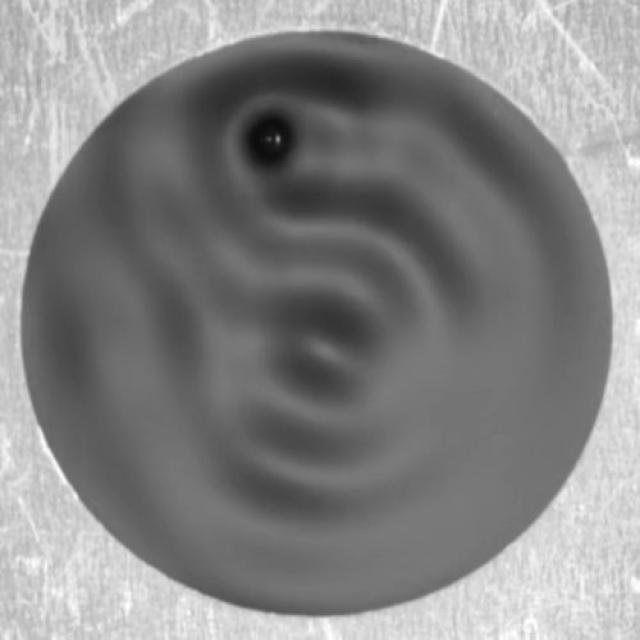droplet: (253, 122, 291, 165)
